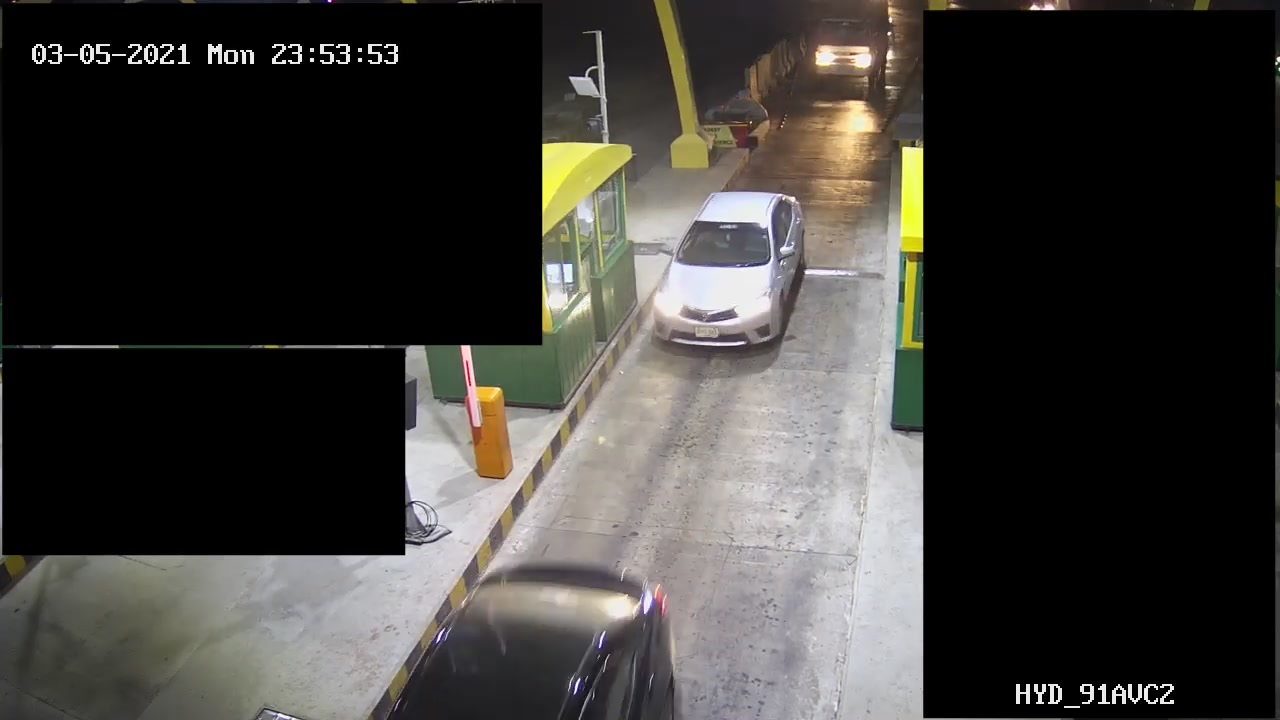F1: (646, 179, 814, 358)
